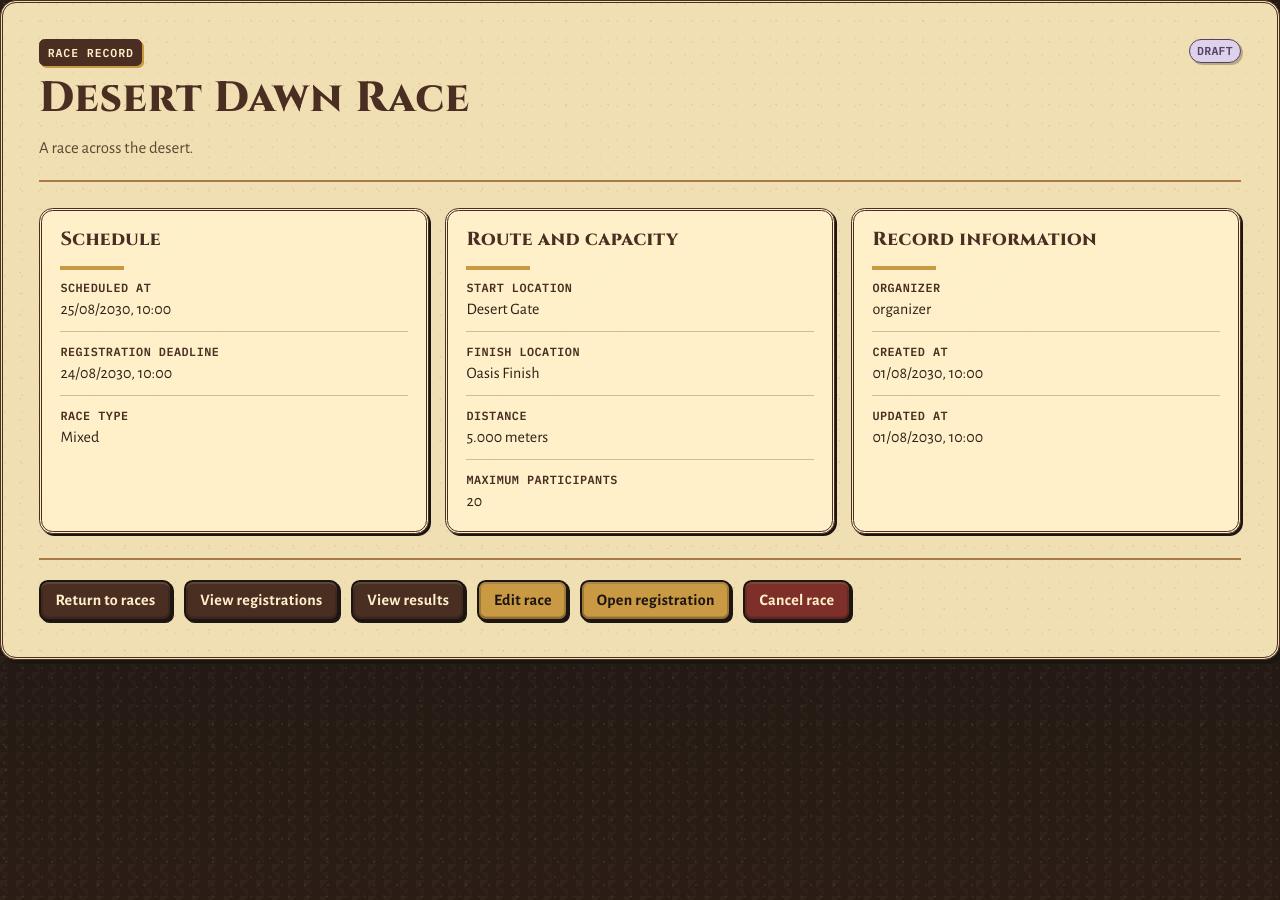
Test case: RaceDetailPage › updates status after confirmation and shows success feedback
Click the button "Open registration". click: {"x": 656, "y": 600}
box: [580,580,731,621]
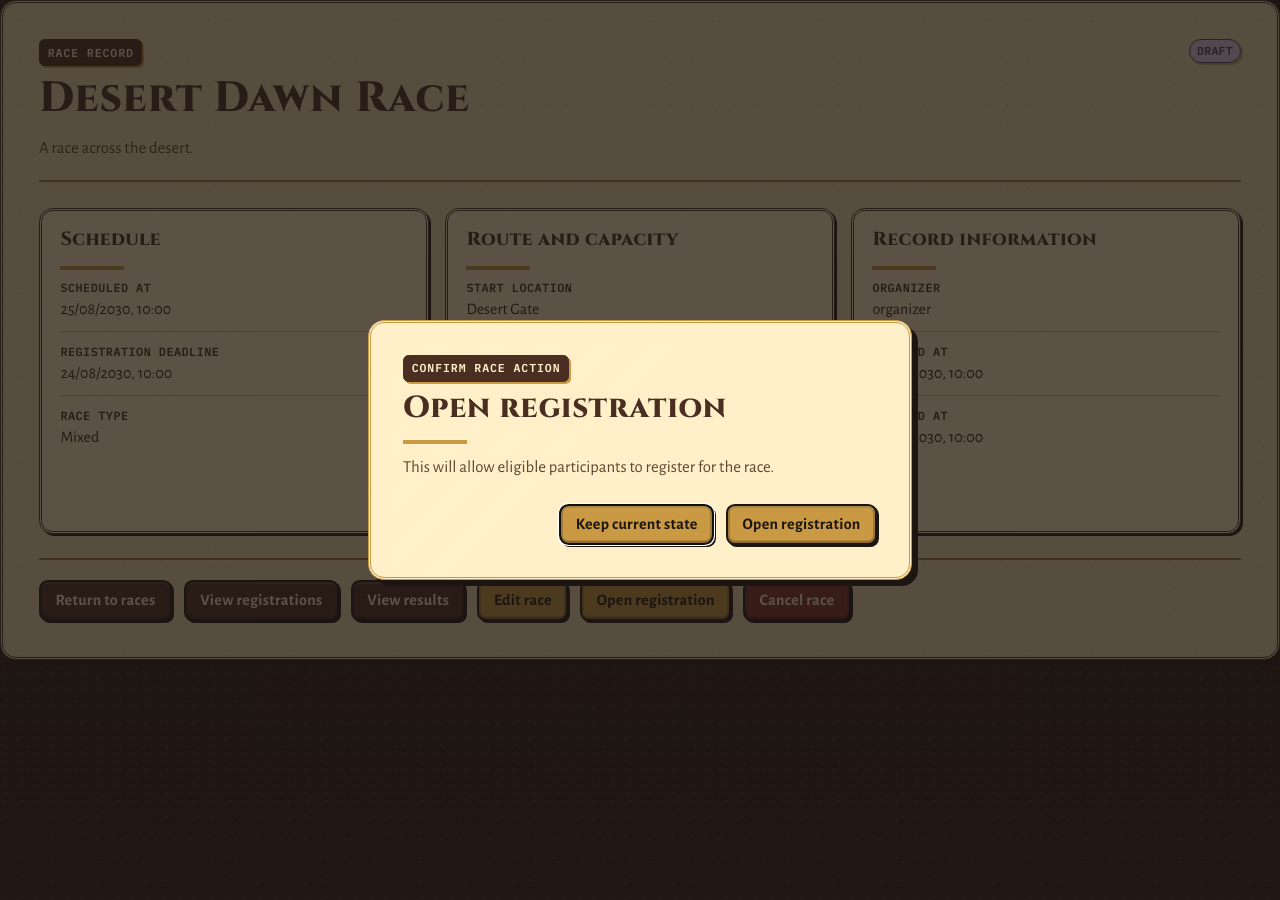
Click the button "Open registration". click: {"x": 802, "y": 525}
box: [726,504,877,545]
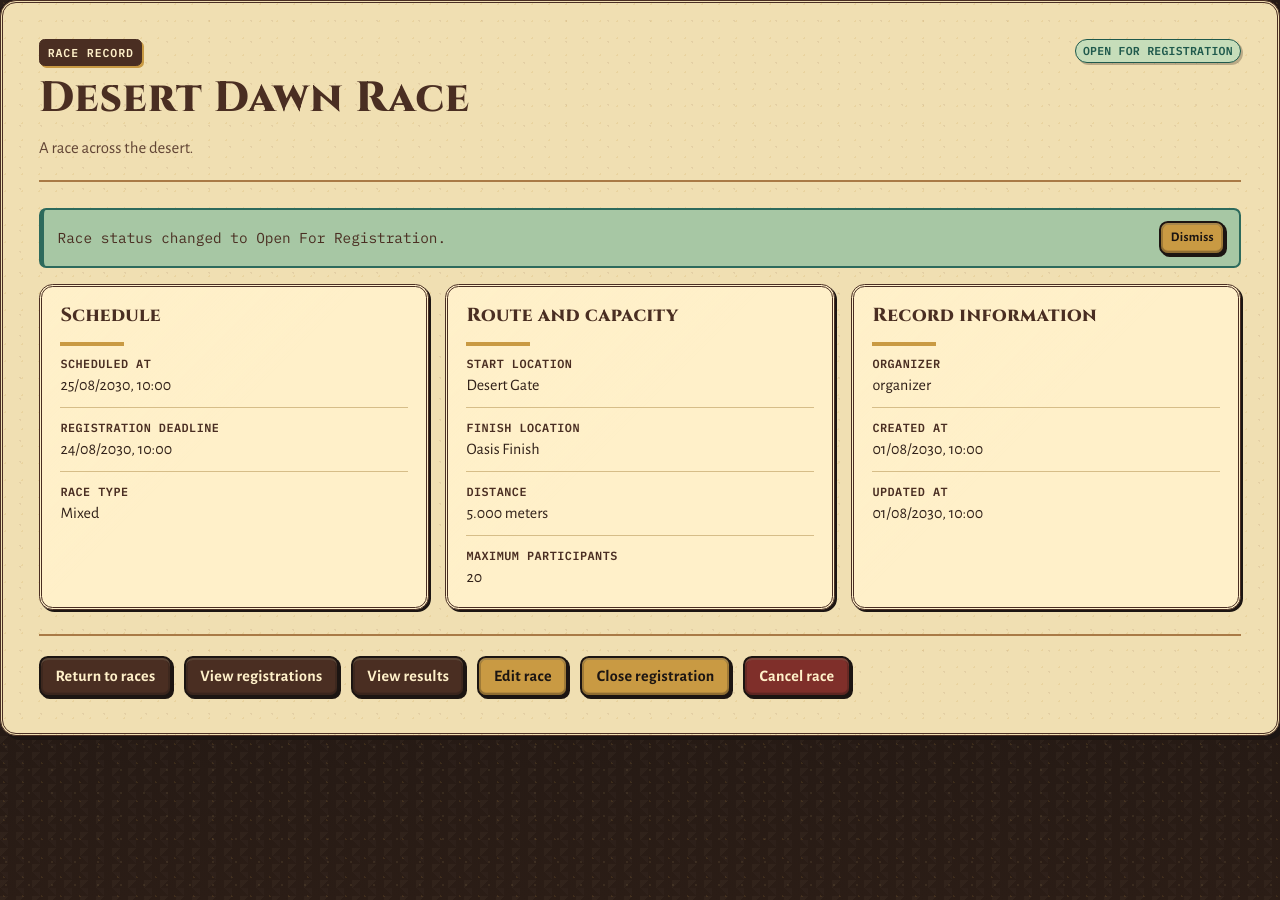
Now the text "Race status changed to Open For Registration." is shown, box [58,228,446,247]
Now the button "Close registration" is shown, box [580,656,731,697]
